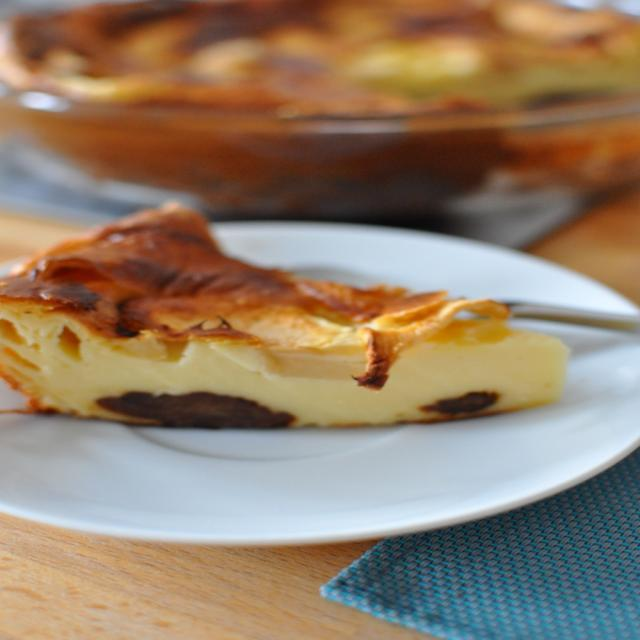ceramic plate: (26, 224, 640, 548)
